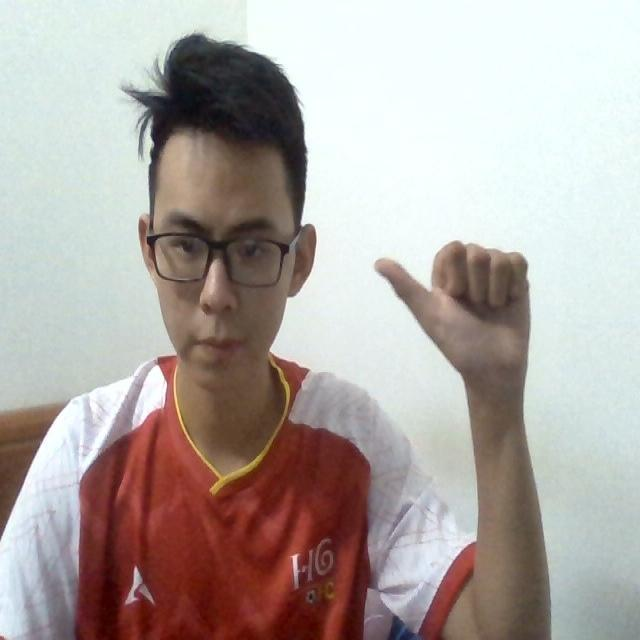A: (368, 235, 534, 388)
